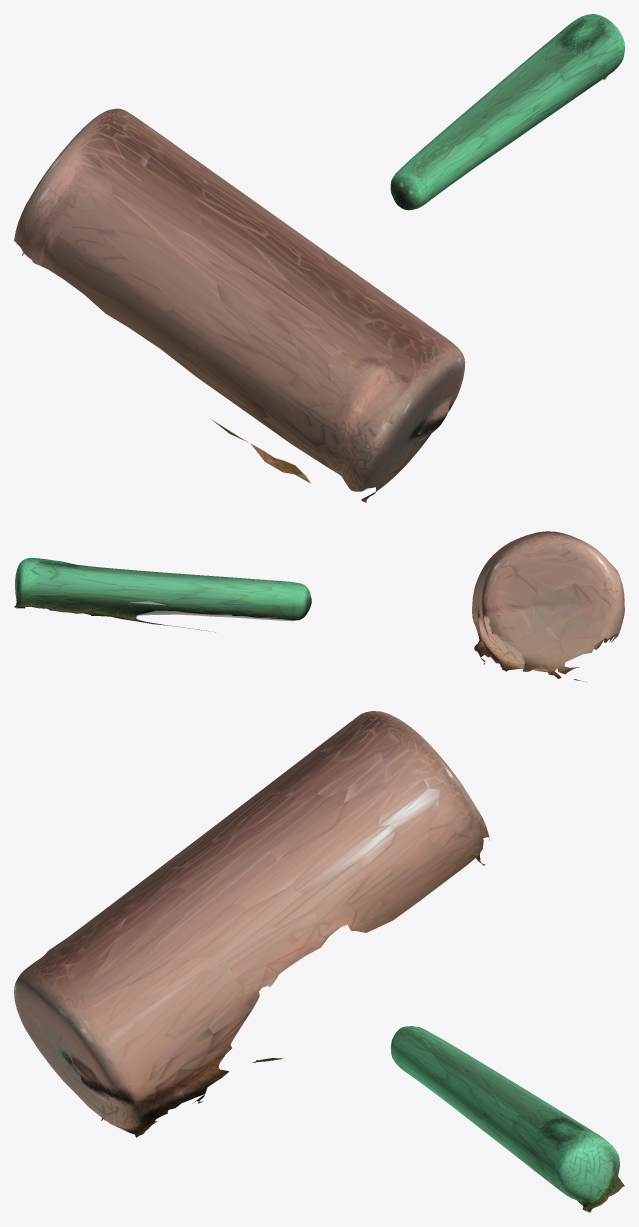
File: lint-roller-3.obj
3 renders of one model, top to bottom at view 1: azimuth 30°, elevation 25°; view 2: azimuth 150°, elevation 25°; view 3: azimuth 270°, elevation 25°, orthographic. The views are drawn at different scales.
Bounding box in the file's own units: 298 × 131 × 215.
2 materials, 1 textured.
